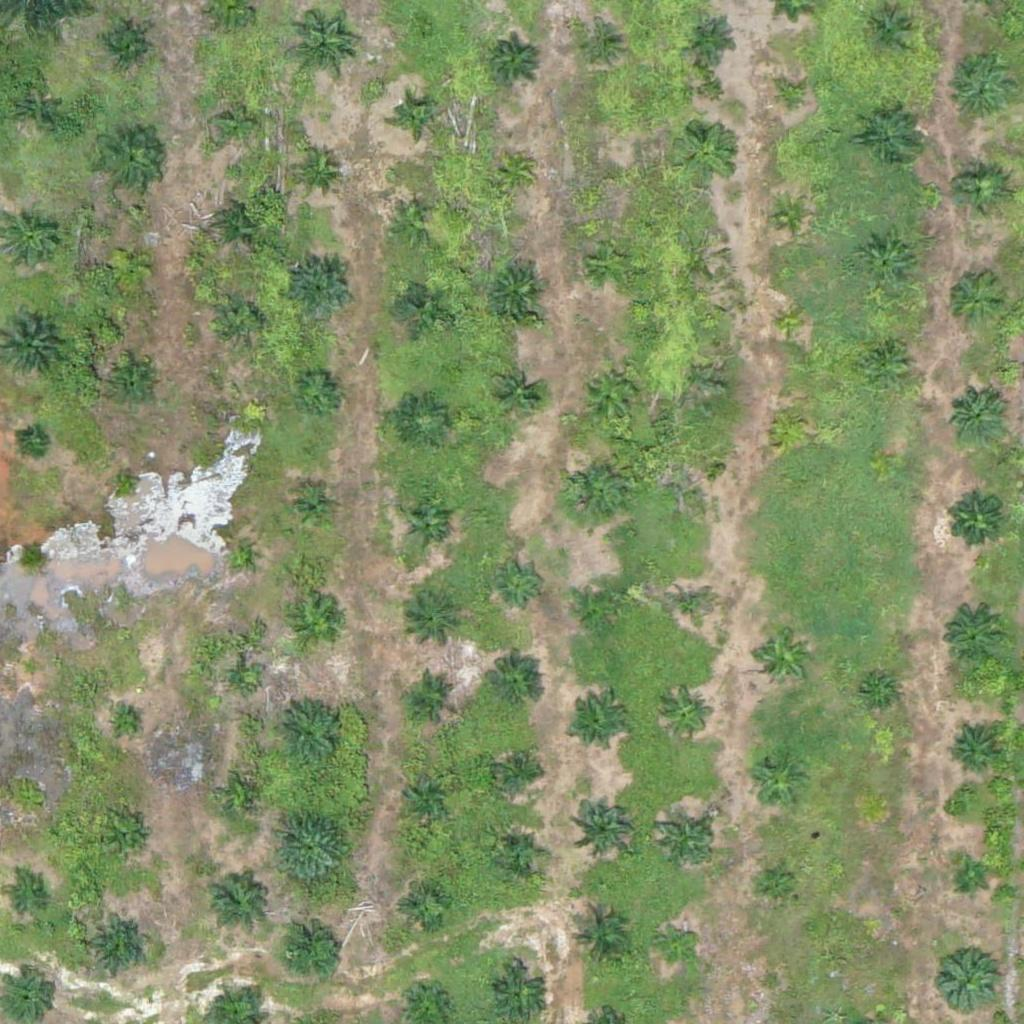Kelapa_Sawit: (270, 695, 345, 771), (274, 913, 349, 989), (274, 809, 349, 885), (934, 946, 997, 1009), (203, 868, 266, 931), (745, 750, 808, 813), (943, 268, 1006, 331), (948, 61, 1011, 124), (946, 385, 1009, 448), (88, 914, 151, 977), (404, 588, 467, 651), (289, 21, 352, 84), (562, 459, 625, 522), (861, 104, 924, 167), (752, 627, 815, 690), (291, 257, 354, 320), (857, 234, 920, 297), (206, 92, 269, 155), (483, 657, 546, 720), (567, 695, 629, 758), (568, 908, 630, 971), (655, 809, 717, 872), (571, 792, 633, 855), (940, 605, 1002, 668), (944, 488, 1006, 551), (99, 130, 161, 193), (486, 261, 548, 324), (580, 362, 642, 425), (676, 122, 738, 185), (3, 79, 65, 142), (661, 688, 711, 739), (946, 726, 996, 777), (398, 396, 448, 447), (866, 8, 916, 59), (396, 278, 446, 329), (216, 200, 266, 251), (292, 143, 342, 194), (217, 294, 267, 345), (96, 21, 146, 72), (105, 240, 155, 291), (293, 367, 343, 418), (491, 367, 541, 418), (665, 582, 715, 633), (577, 580, 627, 631), (495, 557, 545, 608), (403, 499, 453, 550), (399, 880, 449, 930), (955, 167, 1005, 217), (292, 601, 342, 651), (490, 34, 540, 84), (860, 335, 910, 385), (686, 13, 736, 63), (586, 238, 636, 288), (389, 198, 439, 248), (111, 361, 161, 411), (493, 746, 543, 796), (495, 830, 545, 880), (401, 766, 451, 816), (406, 671, 456, 721), (288, 484, 338, 534), (5, 879, 43, 917), (773, 79, 811, 117), (771, 198, 809, 236), (773, 305, 811, 343), (769, 405, 807, 443), (495, 152, 533, 190), (398, 97, 436, 135), (860, 676, 898, 714), (656, 928, 694, 966), (110, 822, 147, 860), (951, 859, 988, 897), (581, 30, 618, 68), (593, 159, 630, 197), (676, 457, 713, 495), (759, 865, 796, 902), (20, 430, 45, 456), (232, 786, 257, 812), (225, 541, 250, 566), (230, 669, 255, 694), (113, 712, 138, 737), (113, 468, 138, 493), (19, 657, 44, 682)
